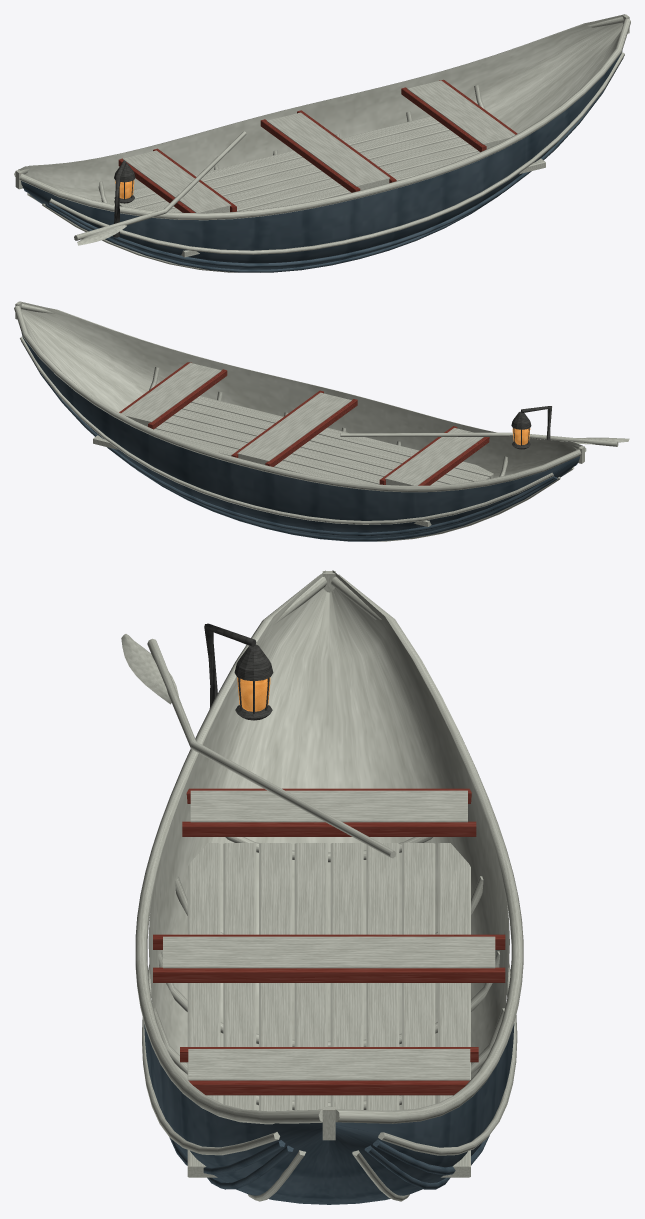
File: nordic_fishing_skiff.glb
The picture shows the model from 3 angles, top to bottom: view 1: azimuth 30°, elevation 25°; view 2: azimuth 150°, elevation 25°; view 3: azimuth 270°, elevation 25°; orthographic projection. The views are drawn at different scales.
Visible parts, largest first — view 1: nordic_fishing_skiff; view 2: nordic_fishing_skiff; view 3: nordic_fishing_skiff.
Boxes of the visible parts, x1,y1,x2,y2 form: nordic_fishing_skiff: (14, 14, 630, 272); nordic_fishing_skiff: (14, 301, 629, 541); nordic_fishing_skiff: (121, 570, 523, 1204).
Bounding box in the file's own units: 4.3 × 1.05 × 1.32.
2 materials, 2 textured.
